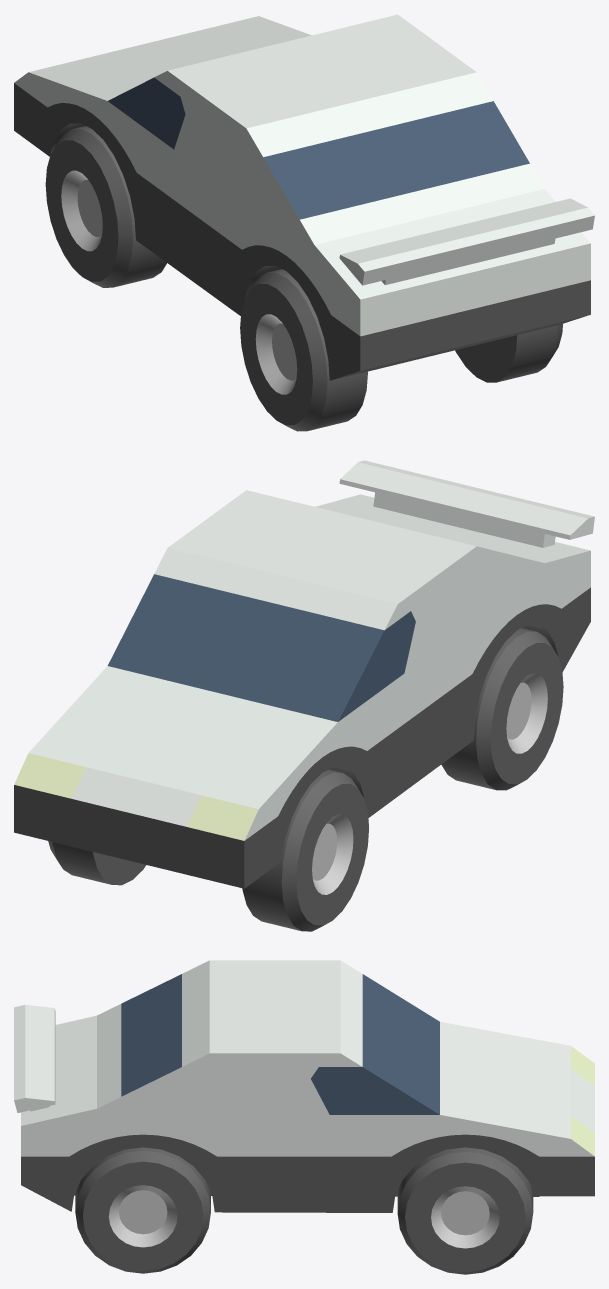
Rendered from carSports.fbx.
The picture shows the model from 3 angles, top to bottom: view 1: azimuth 30°, elevation 25°; view 2: azimuth 150°, elevation 25°; view 3: azimuth 270°, elevation 25°; orthographic projection. The views are drawn at different scales.
Parts seen in each view (by area): view 1: body 8, wheelBackLeft 8, wheelFrontLeft 8, wheelBackRight 8; view 2: body 8, wheelFrontLeft 8, wheelBackLeft 8, wheelFrontRight 8; view 3: body 8, wheelFrontRight 8, wheelBackRight 8.
Part boxes in pixels (bbox=[...]): body 8: bbox=[14, 14, 594, 380]; wheelBackLeft 8: bbox=[240, 269, 367, 431]; wheelFrontLeft 8: bbox=[45, 126, 166, 287]; wheelBackRight 8: bbox=[455, 324, 562, 382]; body 8: bbox=[14, 460, 594, 888]; wheelFrontLeft 8: bbox=[242, 769, 368, 931]; wheelBackLeft 8: bbox=[441, 628, 563, 790]; wheelFrontRight 8: bbox=[48, 841, 146, 885]; body 8: bbox=[14, 960, 594, 1212]; wheelFrontRight 8: bbox=[397, 1147, 533, 1274]; wheelBackRight 8: bbox=[75, 1147, 210, 1273].
Bounding box in the file's own units: 4.95 × 5.06 × 11.99.
